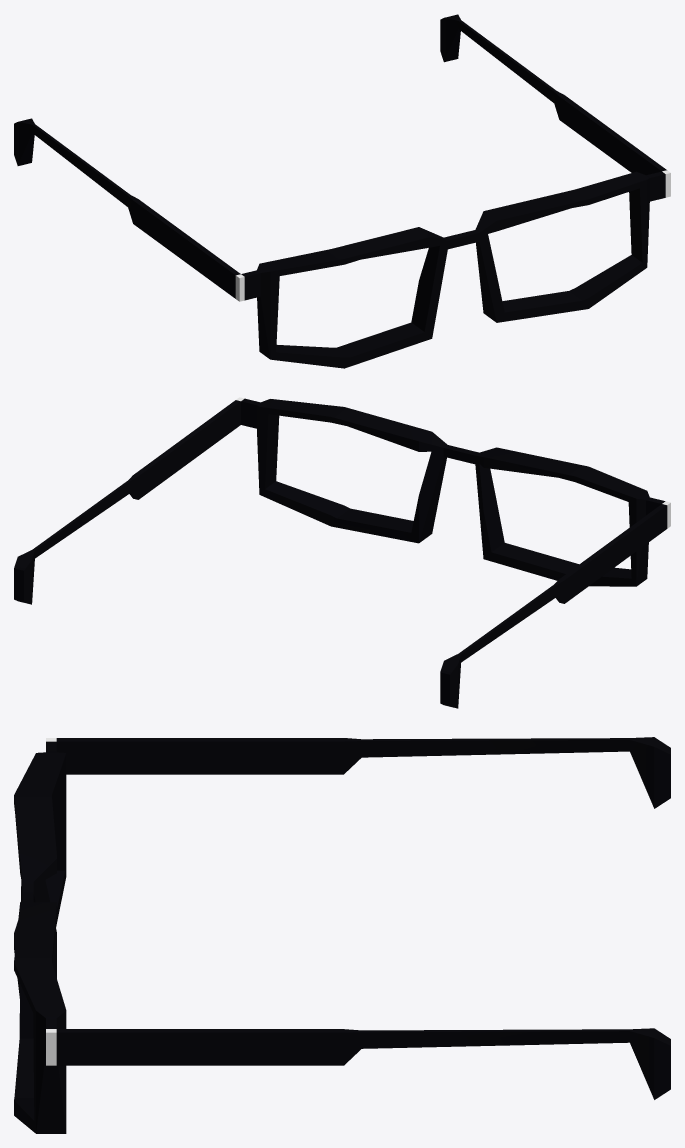
Rendered from Glasses.fbx.
The picture shows the model from 3 angles, top to bottom: view 1: azimuth 30°, elevation 25°; view 2: azimuth 150°, elevation 25°; view 3: azimuth 270°, elevation 25°; orthographic projection. The views are drawn at different scales.
Parts seen in each view (by area): view 1: Glasses; view 2: Glasses; view 3: Glasses.
Part boxes in pixels (x1=…): Glasses: x1=14, y1=14, x2=670, y2=368; Glasses: x1=14, y1=397, x2=670, y2=708; Glasses: x1=14, y1=737, x2=670, y2=1133.
Bounding box in the file's own units: 36.59 × 33.76 × 8.71.
